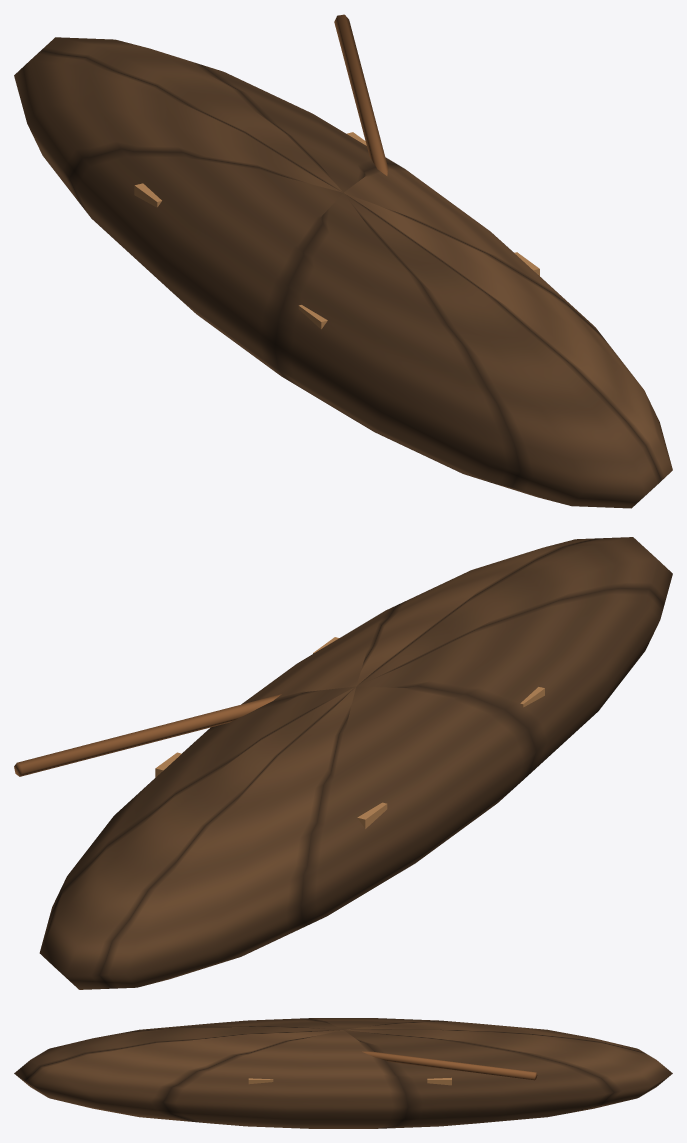
File: prop_perahu.glb
3 views of the same model, one above another, from view 1: azimuth 30°, elevation 25°; view 2: azimuth 150°, elevation 25°; view 3: azimuth 270°, elevation 25° (orthographic). The views are drawn at different scales.
Parts seen in each view (by area): view 1: perahu; view 2: perahu; view 3: perahu.
Part boxes in pixels (x1=…): perahu: x1=14, y1=14, x2=672, y2=508; perahu: x1=14, y1=537, x2=672, y2=989; perahu: x1=14, y1=1018, x2=672, y2=1128.
Bounding box in the file's own units: 1.42 × 0.7276 × 4.8.
3 materials, 1 textured.
